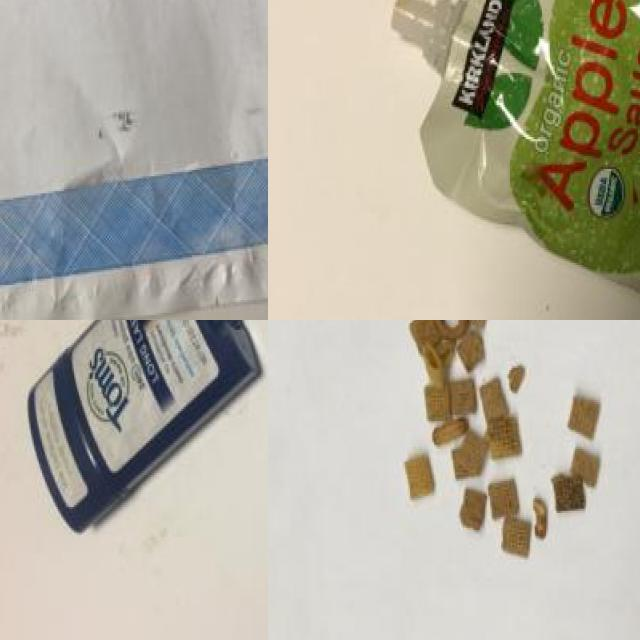compost: (340, 320, 640, 581)
paper: (0, 0, 268, 320)
trash: (393, 0, 640, 320), (10, 320, 268, 538)
